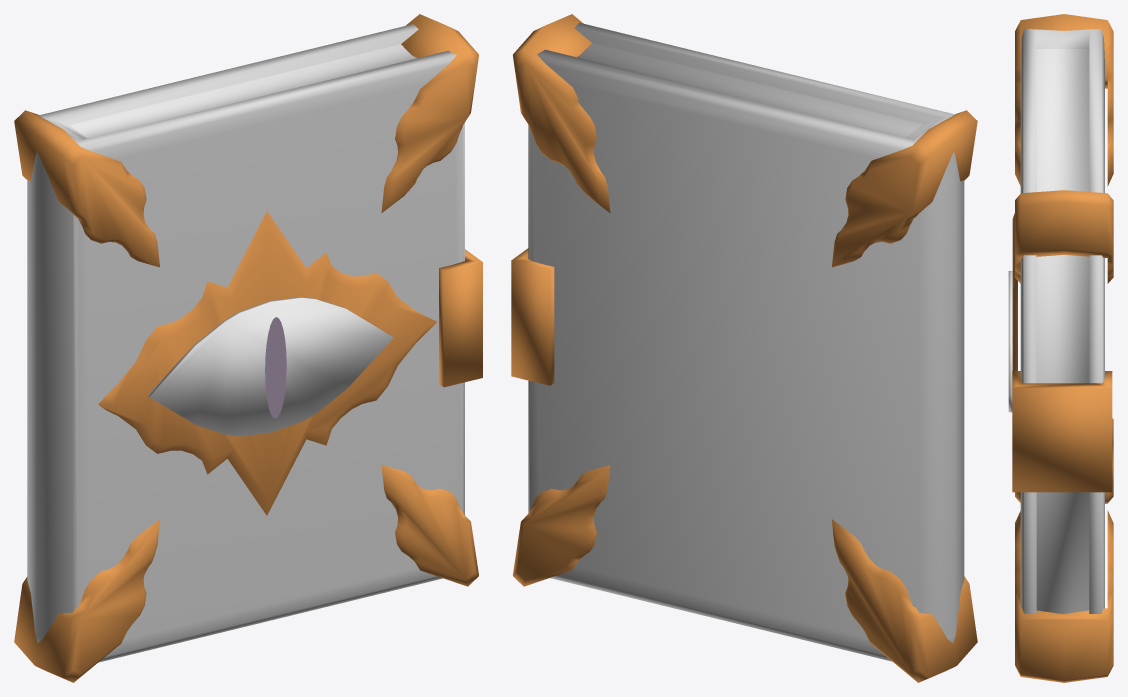
The model's file is EyeBook.fbx.
3 renders of one model, left to right at view 1: azimuth 30°, elevation 25°; view 2: azimuth 150°, elevation 25°; view 3: azimuth 270°, elevation 25°, orthographic. The views are drawn at different scales.
Visible parts, largest first — view 1: Plane.033; view 2: Plane.033; view 3: Plane.033.
Part boxes in pixels (left/top/right/bottom): Plane.033: left=14, top=14, right=482, bottom=682; Plane.033: left=511, top=14, right=977, bottom=682; Plane.033: left=1008, top=14, right=1113, bottom=682.
Size of the model in its own units: 47.01 by 58.09 by 11.44.
